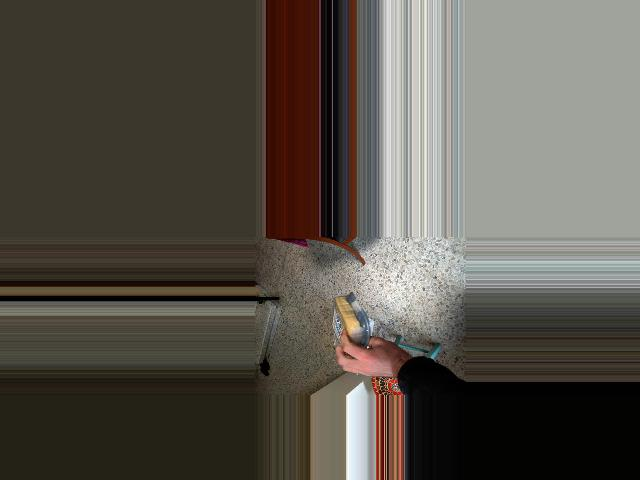cheese: (331, 291, 364, 357)
